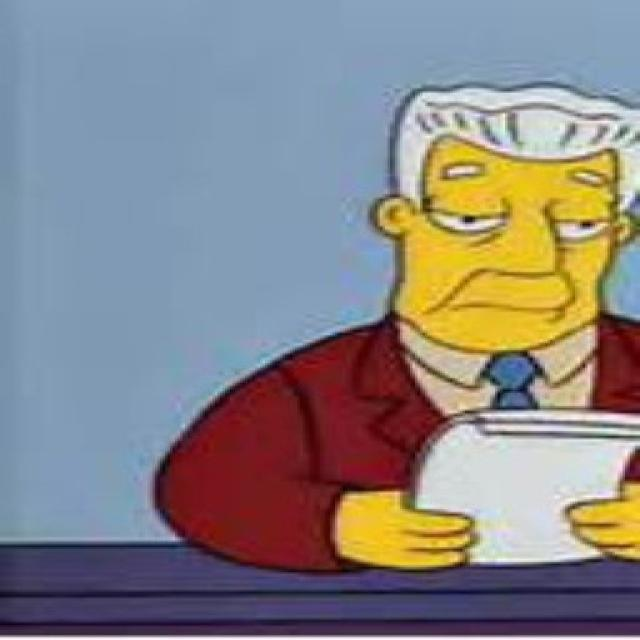Kent Brockman: (365, 78, 640, 356)
